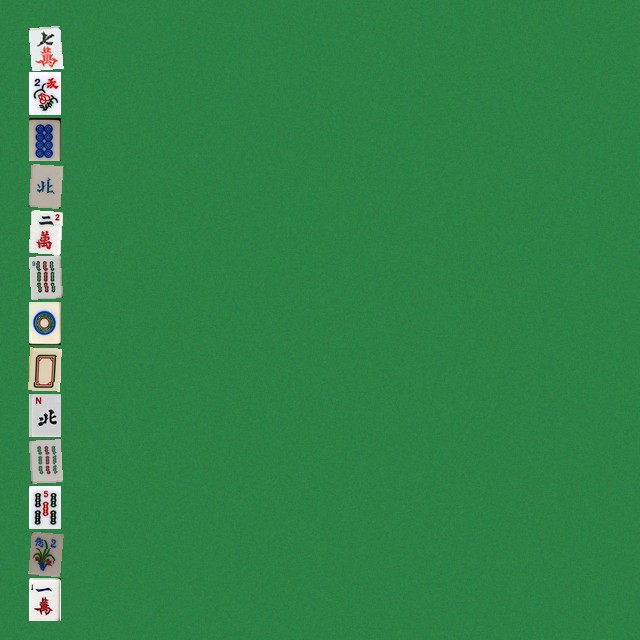tile: (28, 25, 60, 68), (28, 71, 60, 114), (28, 117, 60, 160), (28, 163, 60, 206), (28, 209, 60, 252), (28, 255, 60, 298), (28, 301, 60, 344), (28, 347, 60, 390), (28, 393, 60, 436), (28, 439, 60, 482), (28, 485, 60, 528), (28, 531, 60, 574), (28, 577, 60, 620)
